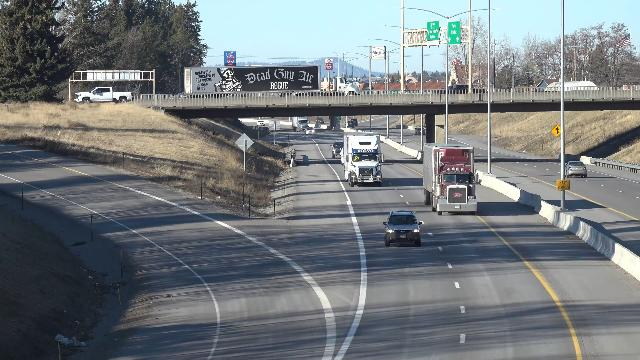car: (384, 210, 423, 247), (561, 159, 588, 181), (331, 139, 347, 161), (304, 128, 317, 136), (256, 119, 269, 126), (346, 121, 357, 128)
pickup-truck: (71, 84, 130, 106)
truck: (421, 143, 478, 214), (342, 131, 386, 187), (291, 116, 308, 132)
